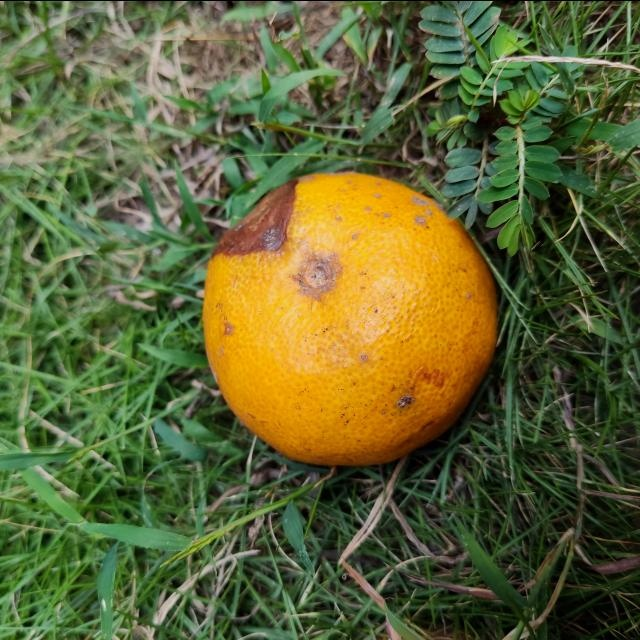agrume: (202, 172, 498, 468)
